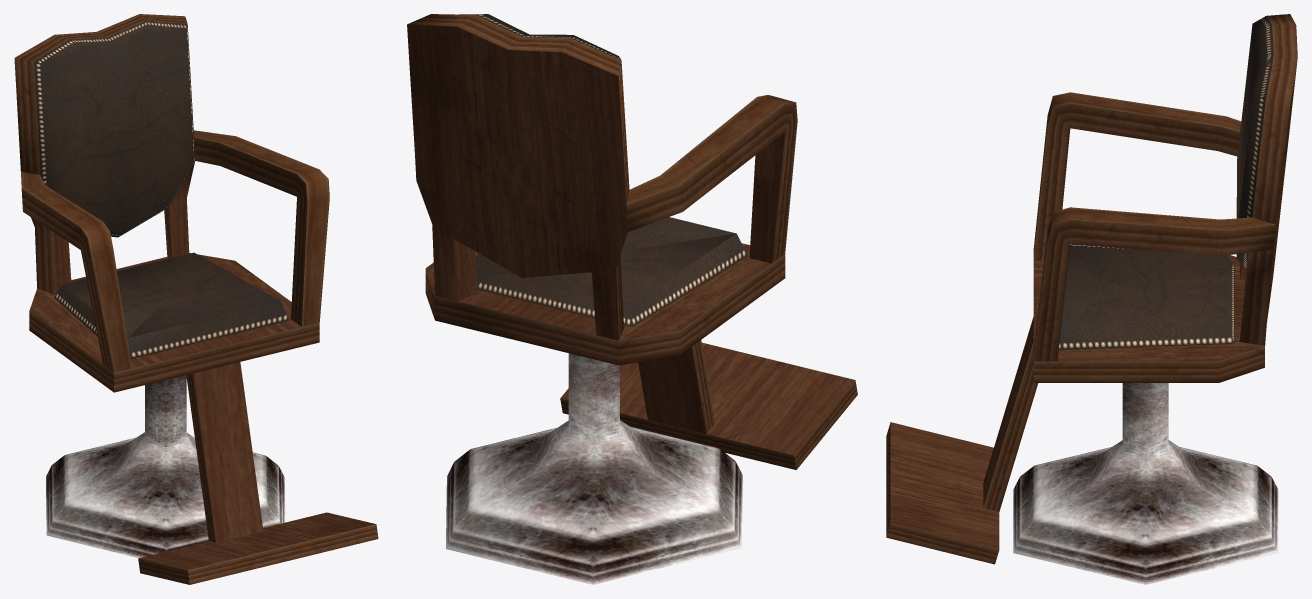
Rendered from chair_barber.fbx.
The picture shows the model from 3 angles, left to right: view 1: azimuth 30°, elevation 25°; view 2: azimuth 150°, elevation 25°; view 3: azimuth 270°, elevation 25°; orthographic projection. The views are drawn at different scales.
Visible parts, largest first — view 1: chair_backCushion, chair_backWood, chair_base, chair_seatCushion, chair_seatWood, chair_footrest, chair_footrest1; view 2: chair_backWood, chair_base, chair_footrest1, chair_seatWood, chair_seatCushion, chair_footrest, chair_backCushion; view 3: chair_base, chair_backWood, chair_seatCushion, chair_footrest1, chair_seatWood, chair_backCushion, chair_footrest.
Part boxes in pixels (bbox=[...]): chair_backCushion: bbox=[34, 20, 195, 237]; chair_backWood: bbox=[14, 14, 329, 372]; chair_base: bbox=[46, 375, 285, 558]; chair_seatCushion: bbox=[54, 252, 289, 359]; chair_seatWood: bbox=[29, 253, 319, 392]; chair_footrest: bbox=[186, 362, 263, 542]; chair_footrest1: bbox=[138, 512, 378, 584]; chair_backWood: bbox=[407, 14, 797, 340]; chair_base: bbox=[446, 353, 742, 584]; chair_footrest1: bbox=[560, 342, 857, 469]; chair_seatWood: bbox=[425, 243, 785, 365]; chair_seatCushion: bbox=[475, 217, 747, 327]; chair_footrest: bbox=[638, 340, 715, 433]; chair_backCushion: bbox=[459, 14, 620, 59]; chair_base: bbox=[1013, 383, 1278, 584]; chair_backWood: bbox=[1033, 14, 1297, 361]; chair_seatCushion: bbox=[1058, 245, 1234, 349]; chair_footrest1: bbox=[886, 422, 999, 564]; chair_seatWood: bbox=[1033, 255, 1264, 382]; chair_backCushion: bbox=[1236, 16, 1273, 268]; chair_footrest: bbox=[983, 317, 1038, 511].
Size of the model in its own units: 183 by 315 by 247.
Materials: 1 (1 with a texture image).
